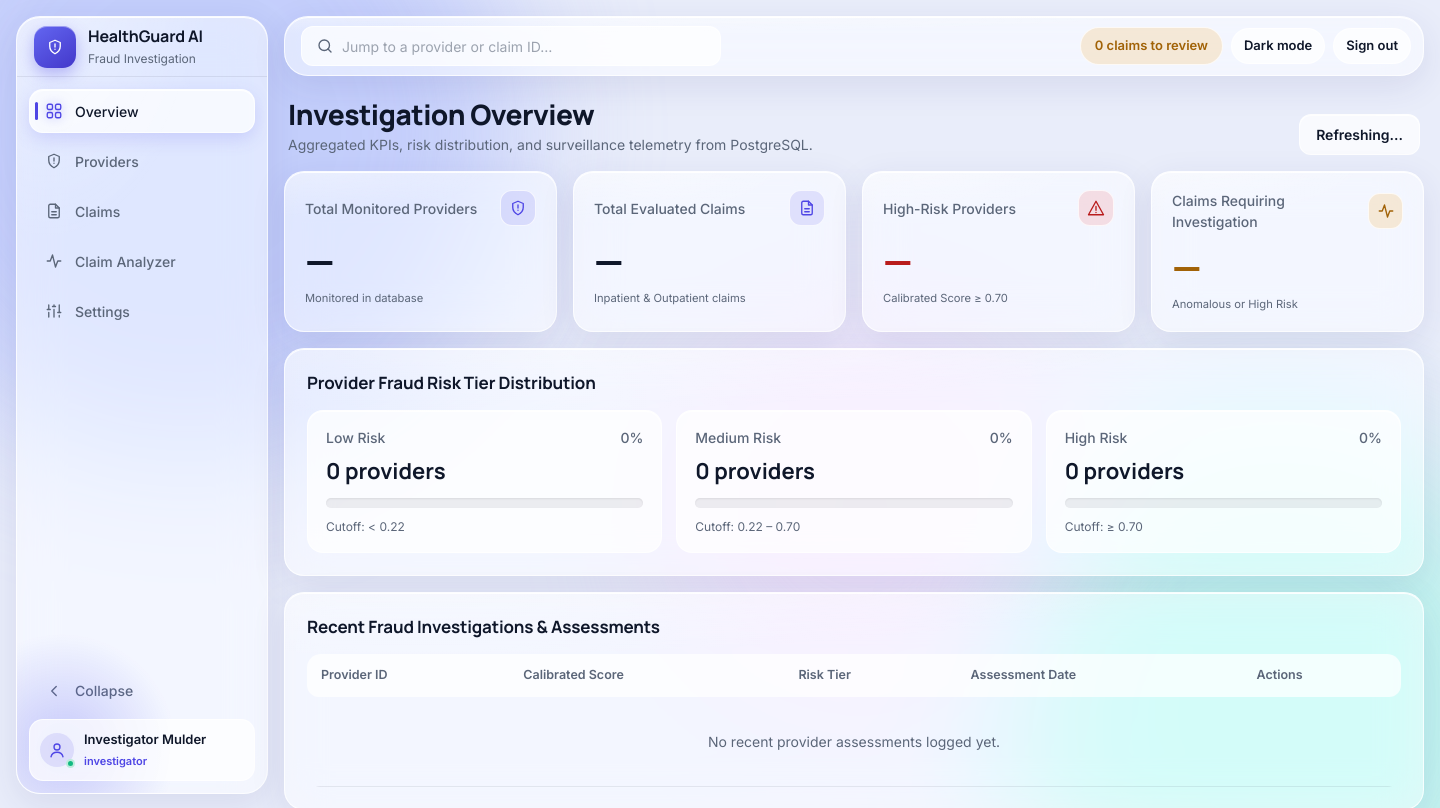
Test: HealthGuard AI Frontend Integration Tests › Claim Fraud Analyzer Probability & Risk Tier Validation › displays "Unavailable" and warning when response has missing or null risk score
The width and height of the screenshot is (1440, 808).
Check: the text "Investigator Mulder" is shown, box [84,730,206,749]
Step 1. Click the button "Claim Analyzer" → (142, 261), box [29,239,255,283]
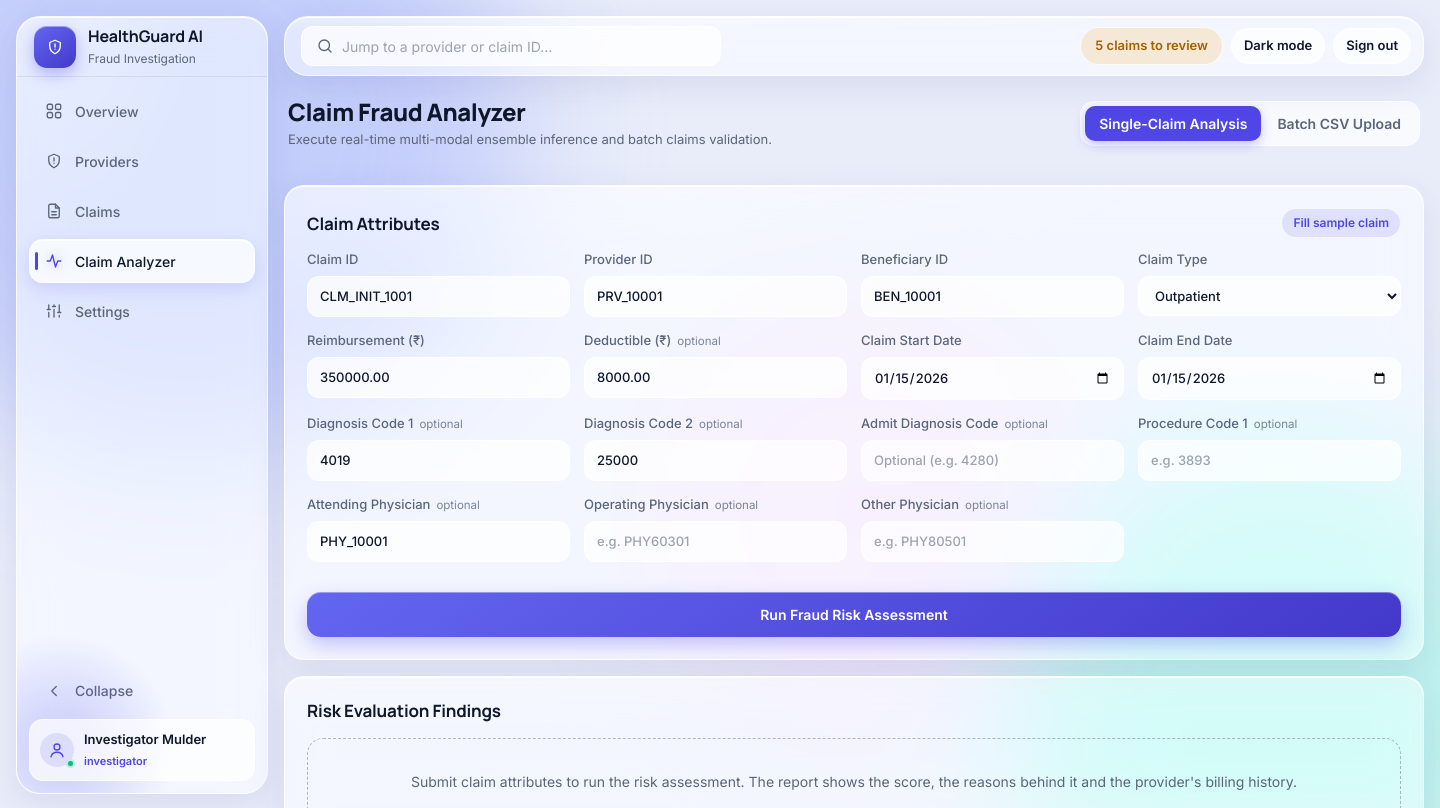
Step 2. Click the button "Run Fraud Risk Assessment" → (854, 615), box [307,592,1401,637]
(page scrolled)
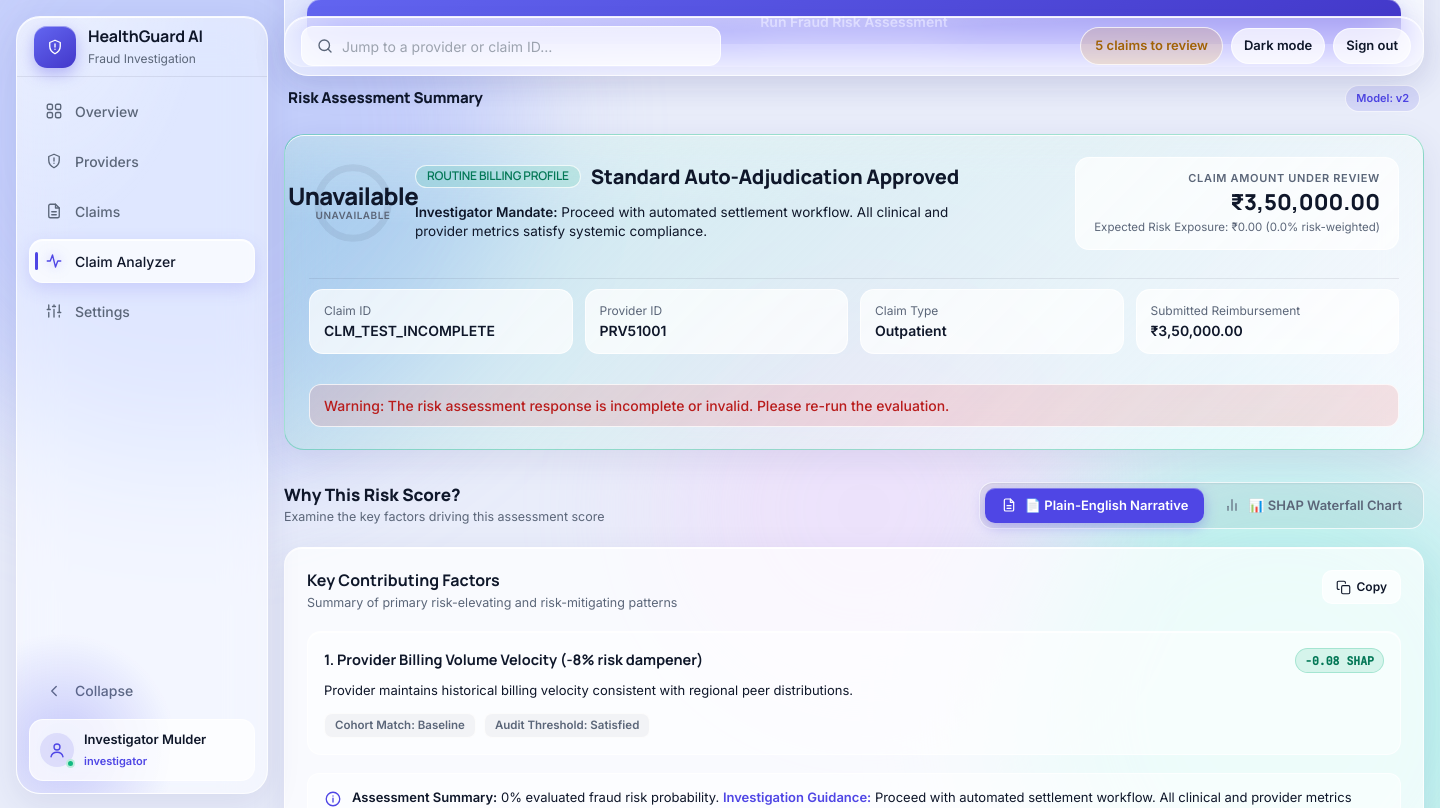
Check: the text with test id "risk-score-value" reads "Unavailable", box [288,179,418,212]
Check: the text with test id "risk-tier-badge" reads "Unavailable", box [316,209,390,221]
Check: the message with test id "incomplete-error" is shown, box [309,384,1399,427]
